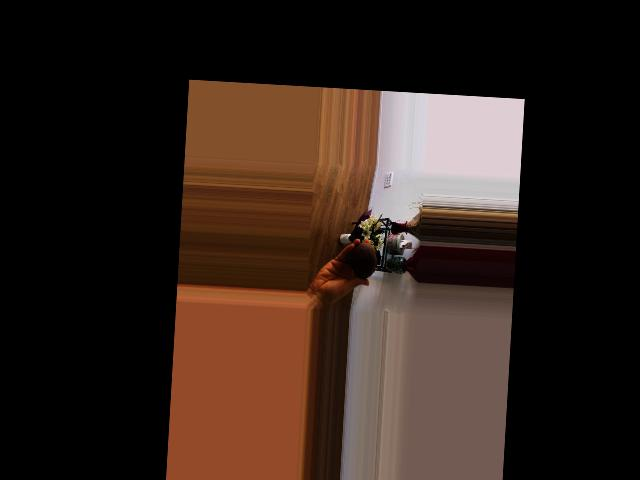beet: (331, 240, 381, 278)
